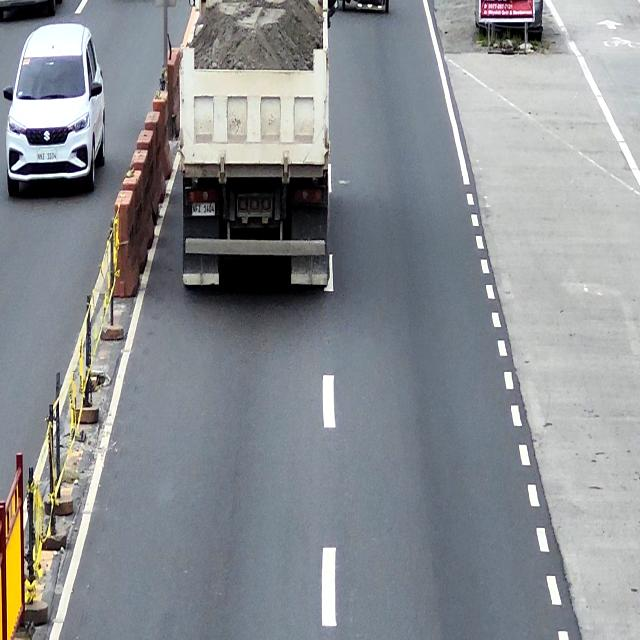Car: (2, 23, 107, 198)
License-Plate: (192, 201, 215, 217), (36, 149, 58, 163)
Truck: (175, 0, 333, 295)
